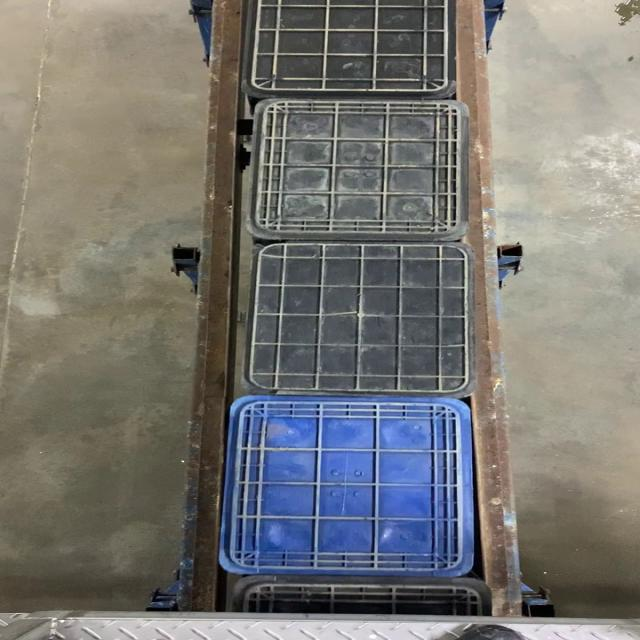Box: (221, 394, 479, 576), (243, 241, 471, 395), (248, 96, 466, 240)
